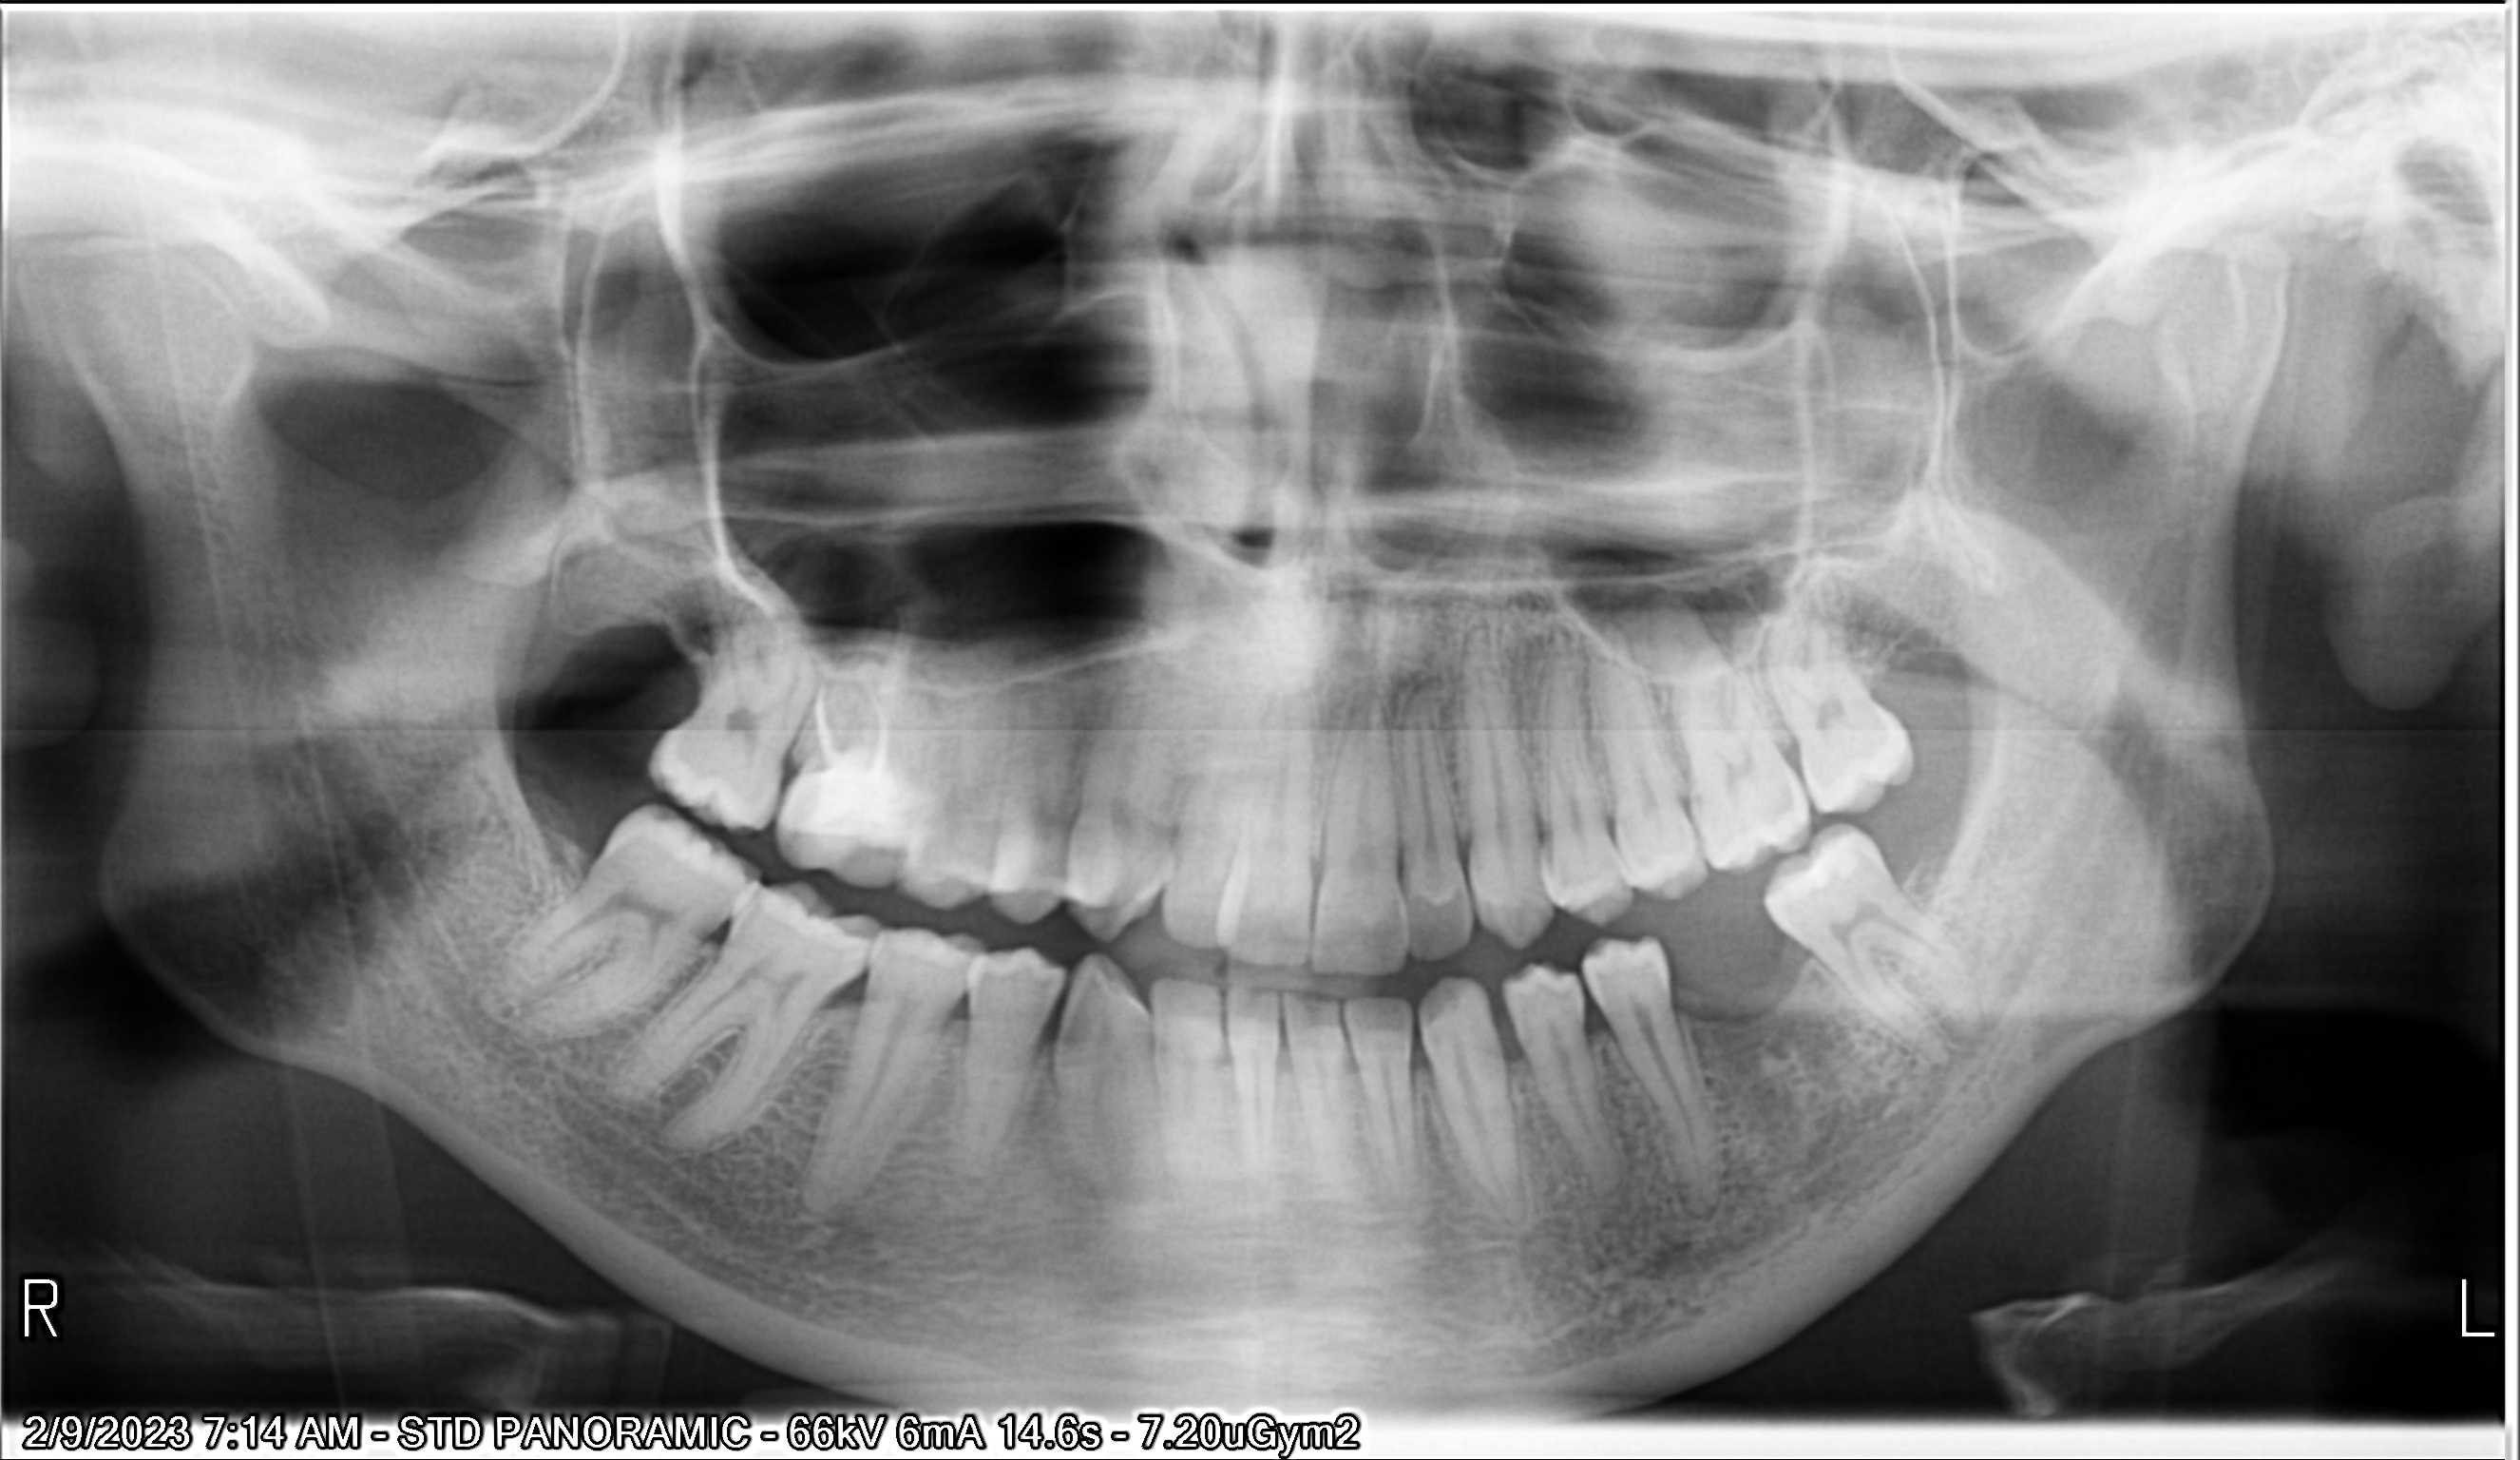BON: (1648, 954, 1740, 1053), (665, 626, 750, 716), (1872, 834, 1952, 930), (1763, 923, 1837, 1012), (806, 965, 874, 1052), (922, 980, 990, 1057), (1021, 991, 1077, 1076), (1480, 1015, 1540, 1088), (1389, 1034, 1448, 1100), (1572, 991, 1624, 1065)
END: (809, 645, 945, 791)
